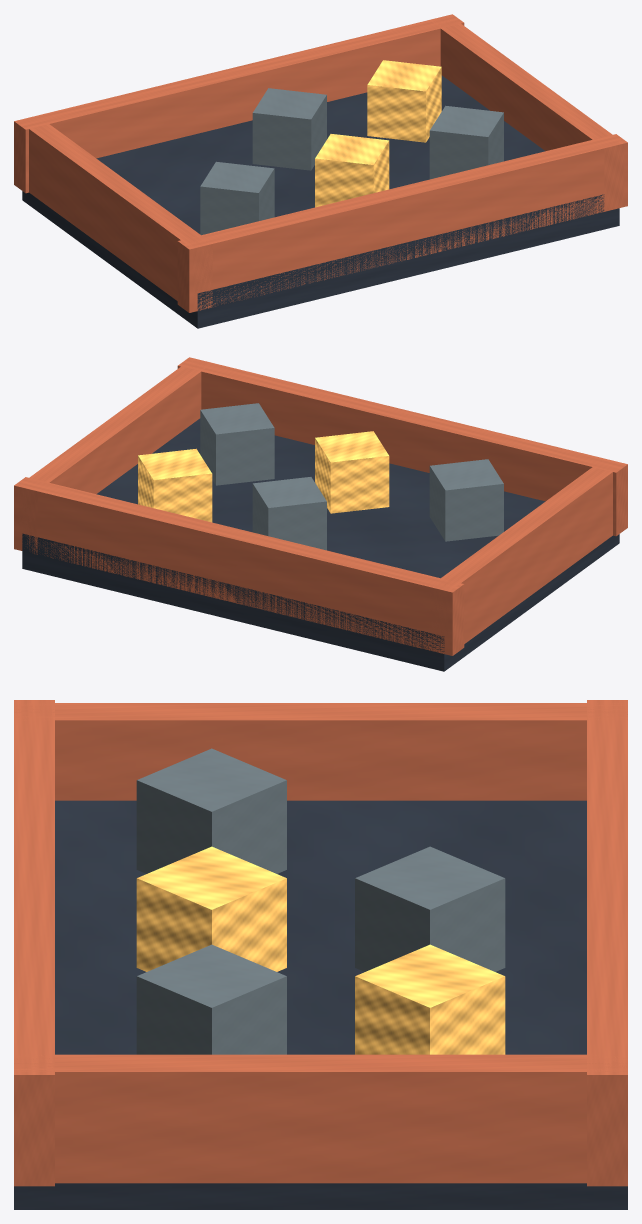
The model's file is atlas100-s021-a03.lod1.glb.
3 renders of one model, top to bottom at view 1: azimuth 30°, elevation 25°; view 2: azimuth 150°, elevation 25°; view 3: azimuth 270°, elevation 25°, orthographic. The views are drawn at different scales.
Parts seen in each view (by area): view 1: atlas100-s021-a03:part-000, atlas100-s021-a03:part-002, atlas100-s021-a03:part-001, atlas100-s021-a03:part-003, atlas100-s021-a03:part-004, atlas100-s021-a03:part-007, atlas100-s021-a03:part-006, atlas100-s021-a03:part-009, atlas100-s021-a03:part-010, atlas100-s021-a03:part-008; view 2: atlas100-s021-a03:part-001, atlas100-s021-a03:part-000, atlas100-s021-a03:part-002, atlas100-s021-a03:part-003, atlas100-s021-a03:part-004, atlas100-s021-a03:part-008, atlas100-s021-a03:part-010, atlas100-s021-a03:part-009, atlas100-s021-a03:part-006, atlas100-s021-a03:part-007; view 3: atlas100-s021-a03:part-000, atlas100-s021-a03:part-004, atlas100-s021-a03:part-003, atlas100-s021-a03:part-001, atlas100-s021-a03:part-002, atlas100-s021-a03:part-008, atlas100-s021-a03:part-006, atlas100-s021-a03:part-009, atlas100-s021-a03:part-007, atlas100-s021-a03:part-010.
Boxes of the visible parts, x1,y1,x2,y2 form: atlas100-s021-a03:part-000: (22, 75, 619, 328); atlas100-s021-a03:part-002: (177, 134, 627, 312); atlas100-s021-a03:part-001: (14, 14, 464, 193); atlas100-s021-a03:part-003: (29, 124, 212, 311); atlas100-s021-a03:part-004: (430, 15, 624, 211); atlas100-s021-a03:part-007: (367, 60, 441, 142); atlas100-s021-a03:part-006: (252, 88, 326, 170); atlas100-s021-a03:part-009: (315, 134, 389, 207); atlas100-s021-a03:part-010: (429, 105, 503, 179); atlas100-s021-a03:part-008: (200, 161, 274, 235); atlas100-s021-a03:part-001: (14, 477, 464, 655); atlas100-s021-a03:part-000: (22, 418, 619, 671); atlas100-s021-a03:part-002: (177, 357, 627, 536); atlas100-s021-a03:part-003: (429, 467, 612, 654); atlas100-s021-a03:part-004: (17, 358, 211, 554); atlas100-s021-a03:part-008: (429, 459, 503, 541); atlas100-s021-a03:part-010: (200, 403, 274, 485); atlas100-s021-a03:part-009: (315, 431, 389, 513); atlas100-s021-a03:part-006: (252, 477, 326, 550); atlas100-s021-a03:part-007: (138, 448, 212, 522); atlas100-s021-a03:part-000: (14, 800, 627, 1209); atlas100-s021-a03:part-004: (14, 1054, 627, 1183); atlas100-s021-a03:part-003: (14, 703, 627, 800); atlas100-s021-a03:part-001: (587, 700, 627, 1186); atlas100-s021-a03:part-002: (14, 700, 54, 1186); atlas100-s021-a03:part-008: (136, 748, 286, 873); atlas100-s021-a03:part-006: (355, 846, 505, 971); atlas100-s021-a03:part-009: (136, 846, 286, 971); atlas100-s021-a03:part-007: (355, 944, 505, 1054); atlas100-s021-a03:part-010: (136, 944, 286, 1054).
Bounding box in the file's own units: 1.36 × 0.2563 × 0.9414.
4 materials, 4 textured.
